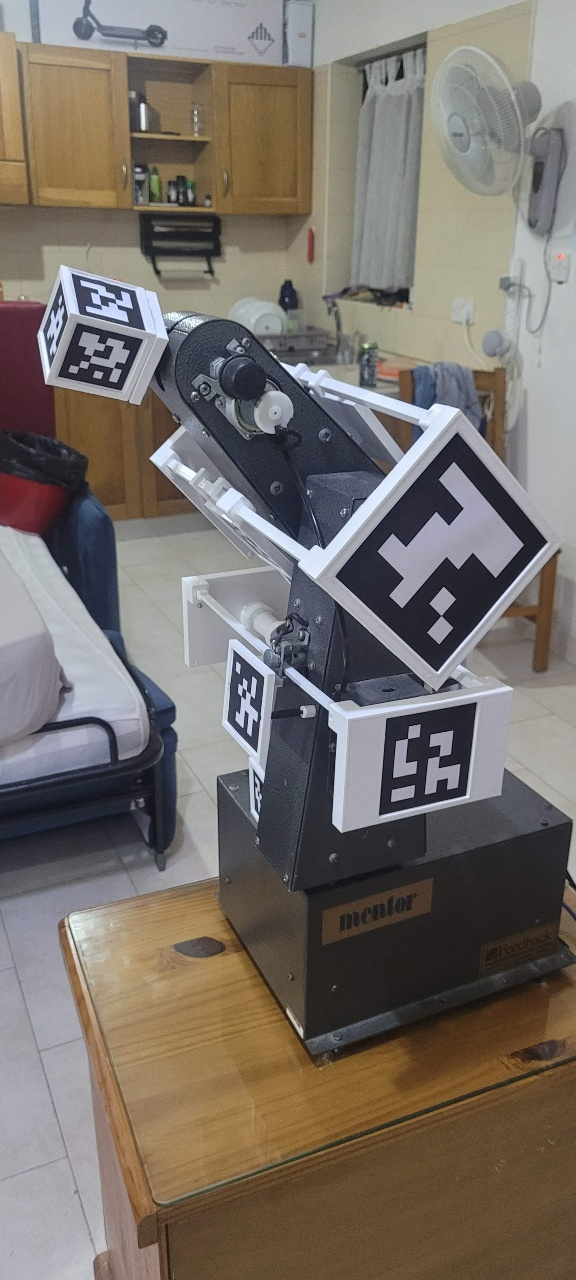Robot: (112, 278, 512, 1028)
